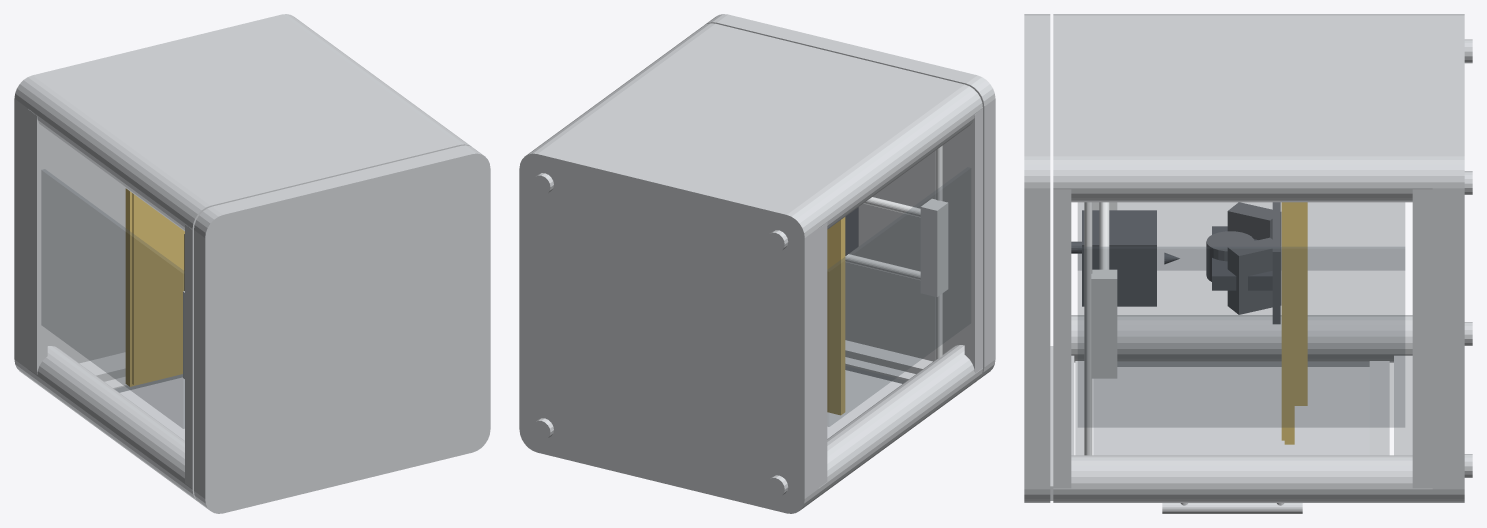
File: deltrol_p2s_optimized.glb
3 renders of one model, left to right at view 1: azimuth 30°, elevation 25°; view 2: azimuth 150°, elevation 25°; view 3: azimuth 270°, elevation 25°, orthographic. The views are drawn at different scales.
Parts seen in each view (by area): view 1: enclosure, left_glass_window, printBed, front_glass_door; view 2: enclosure, left_glass_window, gantryX, printBed, front_glass_door, door, printHead; view 3: enclosure, right_glass_window, front_glass_door, left_glass_window, printedObject, printBed, gantryX, door, printHead, screen_bezel.
Part boxes in pixels (box(x1,y1,x2,y2)): enclosure: box(14, 14, 490, 513); left_glass_window: box(41, 169, 184, 428); printBed: box(125, 188, 184, 386); front_glass_door: box(115, 374, 184, 440); enclosure: box(519, 14, 995, 513); left_glass_window: box(827, 167, 970, 426); gantryX: box(845, 145, 948, 359); printBed: box(827, 217, 845, 415); front_glass_door: box(827, 366, 905, 438); door: box(845, 357, 915, 383); printHead: box(845, 207, 858, 255); enclosure: box(1024, 14, 1472, 502); right_glass_window: box(1078, 247, 1404, 427); front_glass_door: box(1093, 362, 1369, 454); left_glass_window: box(1078, 202, 1404, 269); printedObject: box(1206, 202, 1281, 324); printBed: box(1281, 202, 1307, 444); gantryX: box(1084, 202, 1117, 455); door: box(1075, 361, 1389, 513); printHead: box(1071, 210, 1179, 306); screen_bezel: box(1212, 226, 1272, 290).
Size of the model in its own units: 0.38 by 0.398 by 0.448.
